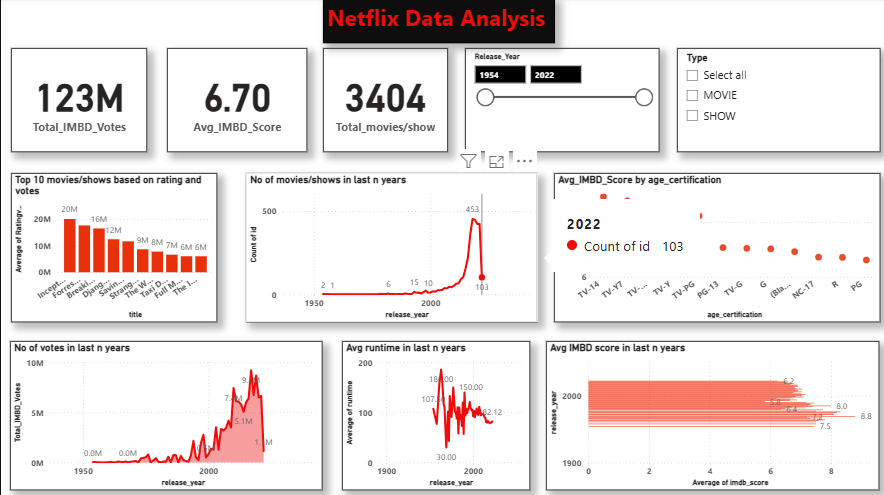

What the dashboard file says about the page in this screenshot:
{"tool":"powerbi","page":{"name":"Netflix","canvas":[1280,720],"ordinal":0},"visuals":[{"type":"slicer","fields":{"Values":["Netflix TV Shows and Movies.release_year"]},"box":[670.2,72,280.1,149.8],"z":0},{"type":"slicer","fields":{"Values":["Netflix TV Shows and Movies.type"]},"box":[974.6,72,292.8,149.8],"z":1000},{"type":"clusteredColumnChart","title":"Top 10 movies/shows based on rating and votes","fields":{"Y":["Netflix TV Shows and Movies.Average of Running Time"],"Category":["Netflix TV Shows and Movies.title"]},"box":[16.5,251.9,296.7,215],"z":2000},{"type":"lineChart","title":"No of movies/shows in last n years","fields":{"Category":["Netflix TV Shows and Movies.release_year"],"Y":["Count(Netflix TV Shows and Movies.id)"]},"box":[354,251.9,420.2,215],"z":3000},{"type":"card","fields":{"Values":["Netflix TV Shows and Movies.Total_IMBD_Votes"]},"box":[16.5,72,196.5,149.8],"z":4000},{"type":"card","fields":{"Values":["Netflix TV Shows and Movies.Avg_IMBD_Score"]},"box":[240.2,72,202.3,149.8],"z":5000},{"type":"areaChart","title":"No of votes in last n years","fields":{"Category":["Netflix TV Shows and Movies.release_year"],"Y":["Netflix TV Shows and Movies.Total_IMBD_Votes"]},"box":[14.6,494.1,450.3,215],"z":6000},{"type":"card","fields":{"Values":["Netflix TV Shows and Movies.count of id"]},"box":[464.9,72,179.9,149.8],"z":7000},{"type":"lineChart","title":"Avg runtime in last n years","fields":{"Category":["Netflix TV Shows and Movies.release_year"],"Y":["Avg(Netflix TV Shows and Movies.runtime)"]},"box":[492.2,494.1,271.4,215],"z":8000},{"type":"scatterChart","fields":{"Y":["Netflix TV Shows and Movies.Avg_IMBD_Score"],"X":["Netflix TV Shows and Movies.age_certification"]},"box":[810.2,251.9,469.8,215],"z":9000},{"type":"clusteredBarChart","title":"Avg IMBD score in last n years ","fields":{"Category":["Netflix TV Shows and Movies.release_year"],"Y":["Avg(Netflix TV Shows and Movies.imdb_score)"]},"box":[786.9,494.1,480.5,215],"z":10000},{"type":"textbox","box":[464.9,0,333.6,65.2],"z":11000}]}

Visuals, with their boxes in screenshot pixels (x1, y1, x2, y2), scaled from the page's 1280x720 canvas onto the 884x495 screenshot:
slicer - Netflix TV Shows and Movies.release_year: (left=463, top=50, right=656, bottom=152)
slicer - Netflix TV Shows and Movies.type: (left=673, top=50, right=875, bottom=152)
"Top 10 movies/shows based on rating and votes" clusteredColumnChart: (left=11, top=173, right=216, bottom=321)
"No of movies/shows in last n years" lineChart: (left=244, top=173, right=535, bottom=321)
card - Netflix TV Shows and Movies.Total_IMBD_Votes: (left=11, top=50, right=147, bottom=152)
card - Netflix TV Shows and Movies.Avg_IMBD_Score: (left=166, top=50, right=306, bottom=152)
"No of votes in last n years" areaChart: (left=10, top=340, right=321, bottom=488)
card - Netflix TV Shows and Movies.count of id: (left=321, top=50, right=445, bottom=152)
"Avg runtime in last n years" lineChart: (left=340, top=340, right=527, bottom=488)
scatterChart - Netflix TV Shows and Movies.Avg_IMBD_Score x Netflix TV Shows and Movies.age_certification: (left=560, top=173, right=883, bottom=321)
"Avg IMBD score in last n years " clusteredBarChart: (left=543, top=340, right=875, bottom=488)
textbox: (left=321, top=0, right=551, bottom=45)
